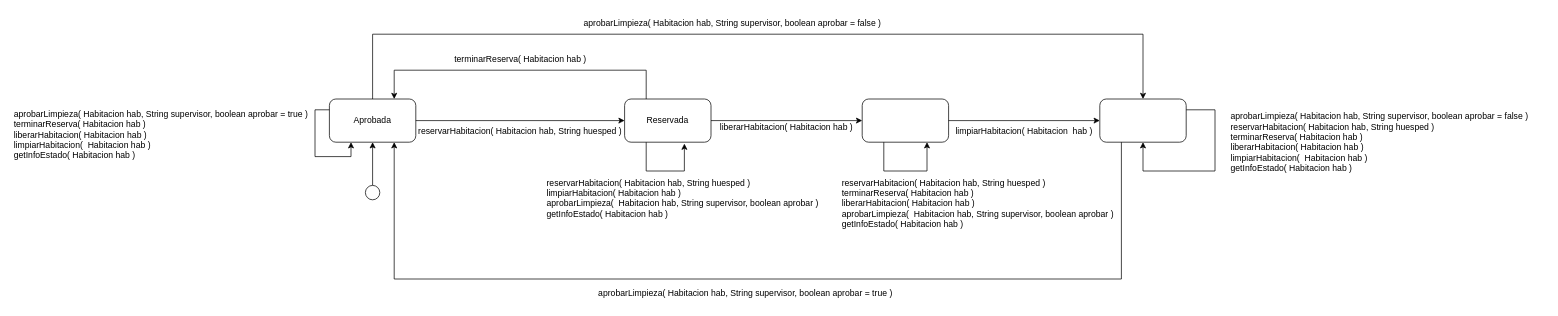
This 1558x316 diagram has some shape labels left out. The centre of each missing label's shape, as x and y in pixels:
Pendiente de Aprobacion: the point at 1142,120
Pendiente de limpieza: the point at 905,120
